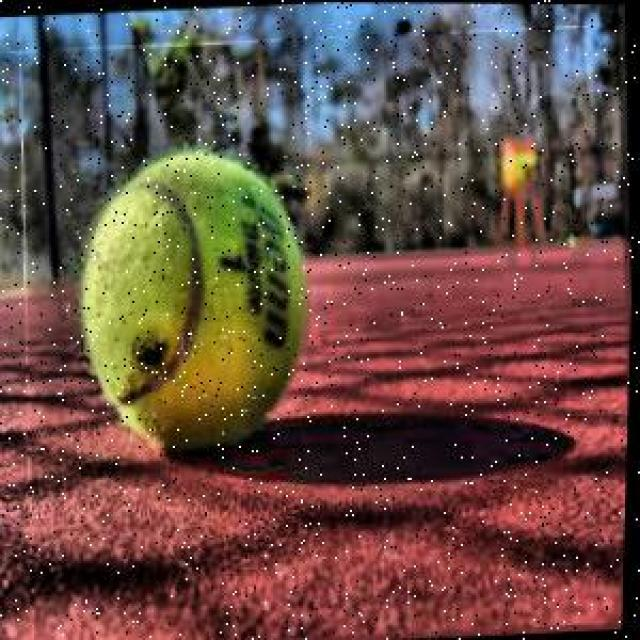tennis-ball: (53, 128, 322, 458)
